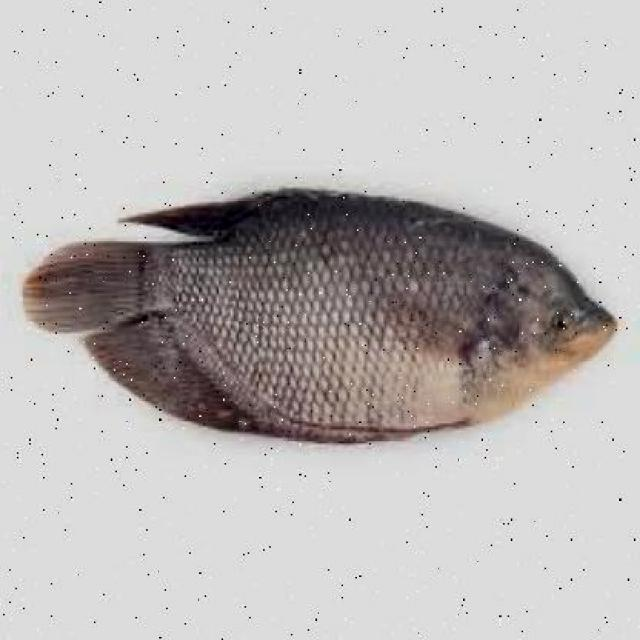ikan-pacu: (47, 190, 621, 444)
